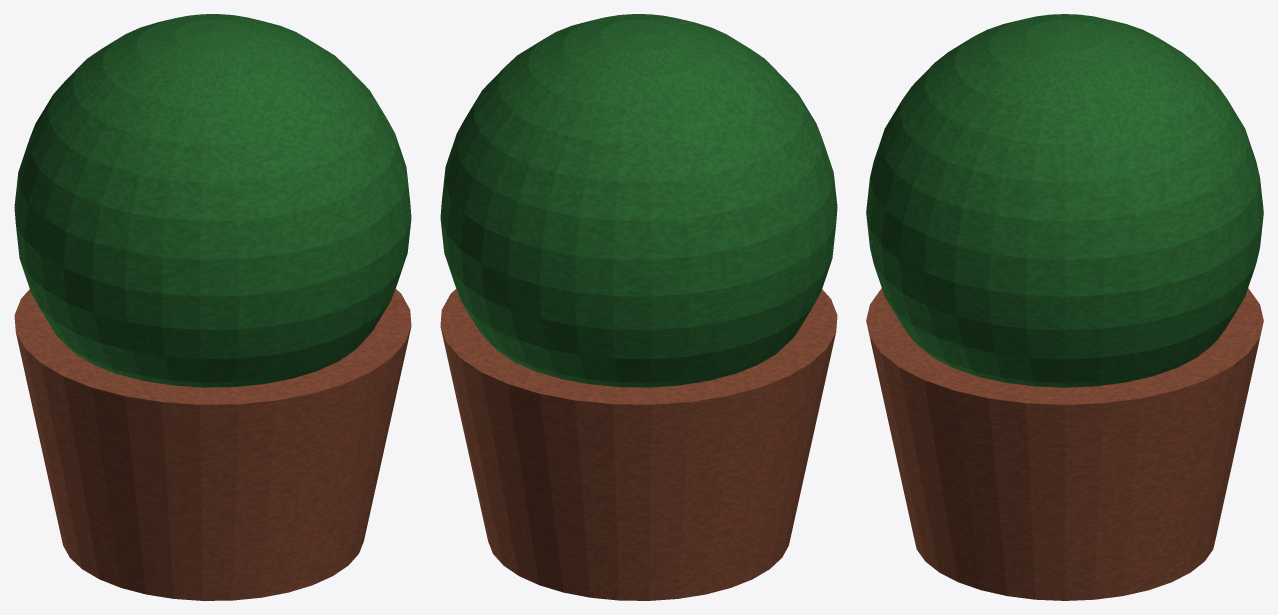
Rendered from potted_plant.glb.
3 views of the same model, side by side, from view 1: azimuth 30°, elevation 25°; view 2: azimuth 150°, elevation 25°; view 3: azimuth 270°, elevation 25° (orthographic).
Parts seen in each view (by area): view 1: potted_plant; view 2: potted_plant; view 3: potted_plant.
Part boxes in pixels (x1,y1,x2,y2): potted_plant: (14, 14, 411, 600); potted_plant: (440, 14, 837, 600); potted_plant: (866, 14, 1263, 600).
Bounding box in the file's own units: 0.1 × 0.14 × 0.1.
Materials: 2 (2 with a texture image).
